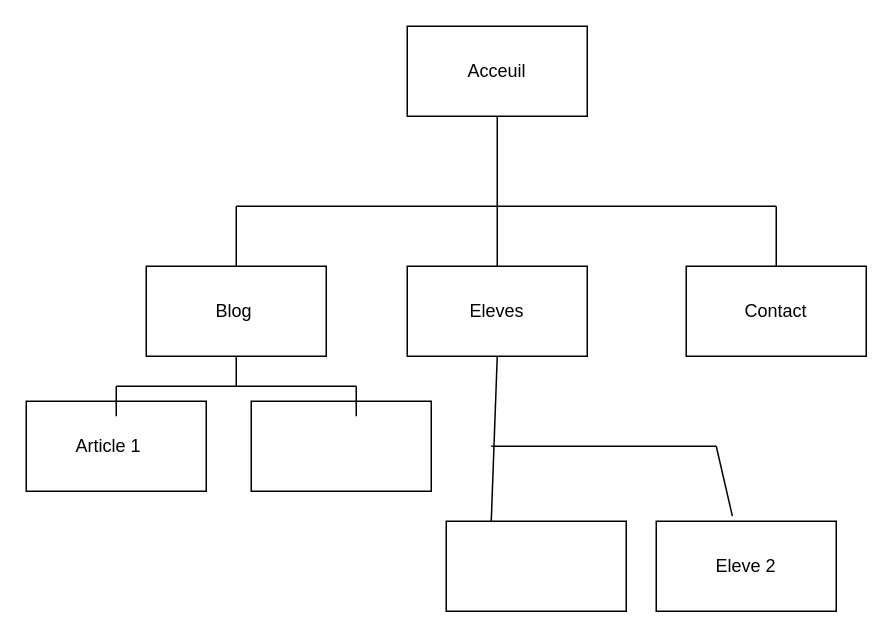
The diagram is 893 pixels wide and 638 high, and some of its shapes have lost their labels. Each missing label, with the box of its shape:
Article 2: (250, 400, 431, 491)
Eleve 1: (445, 520, 626, 611)
